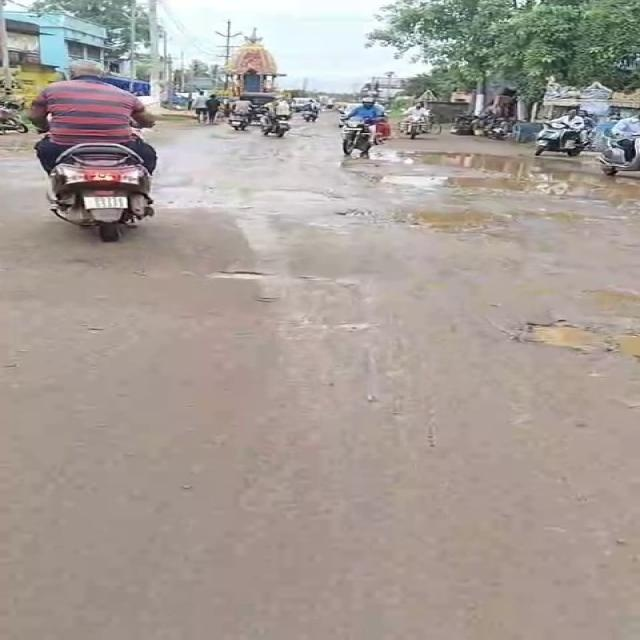pothole: (391, 172, 640, 201), (367, 146, 573, 172), (516, 316, 612, 356), (394, 207, 504, 236), (575, 283, 640, 317), (246, 184, 334, 205), (215, 266, 290, 282), (336, 206, 386, 223), (613, 333, 640, 363), (152, 184, 210, 196)
